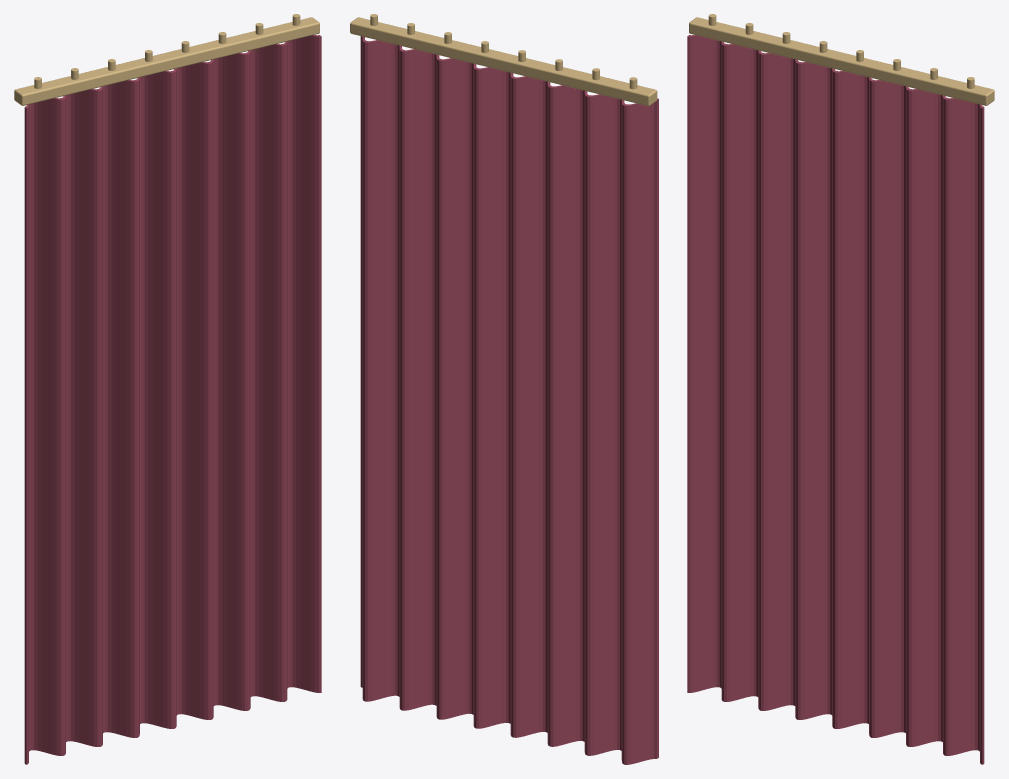
Rendered from curtain-panel.glb.
The picture shows the model from 3 angles, left to right: view 1: azimuth 30°, elevation 25°; view 2: azimuth 150°, elevation 25°; view 3: azimuth 330°, elevation 25°; orthographic projection.
Visible parts, largest first — view 1: abandoned-cinema-and-projection-booth-curtain-panel; view 2: abandoned-cinema-and-projection-booth-curtain-panel; view 3: abandoned-cinema-and-projection-booth-curtain-panel.
Part boxes in pixels (<box>): abandoned-cinema-and-projection-booth-curtain-panel: <box>14,14,321,764</box>; abandoned-cinema-and-projection-booth-curtain-panel: <box>350,14,658,764</box>; abandoned-cinema-and-projection-booth-curtain-panel: <box>687,14,994,764</box>.
Size of the model in its own units: 1.62 by 3.51 by 0.1482.
